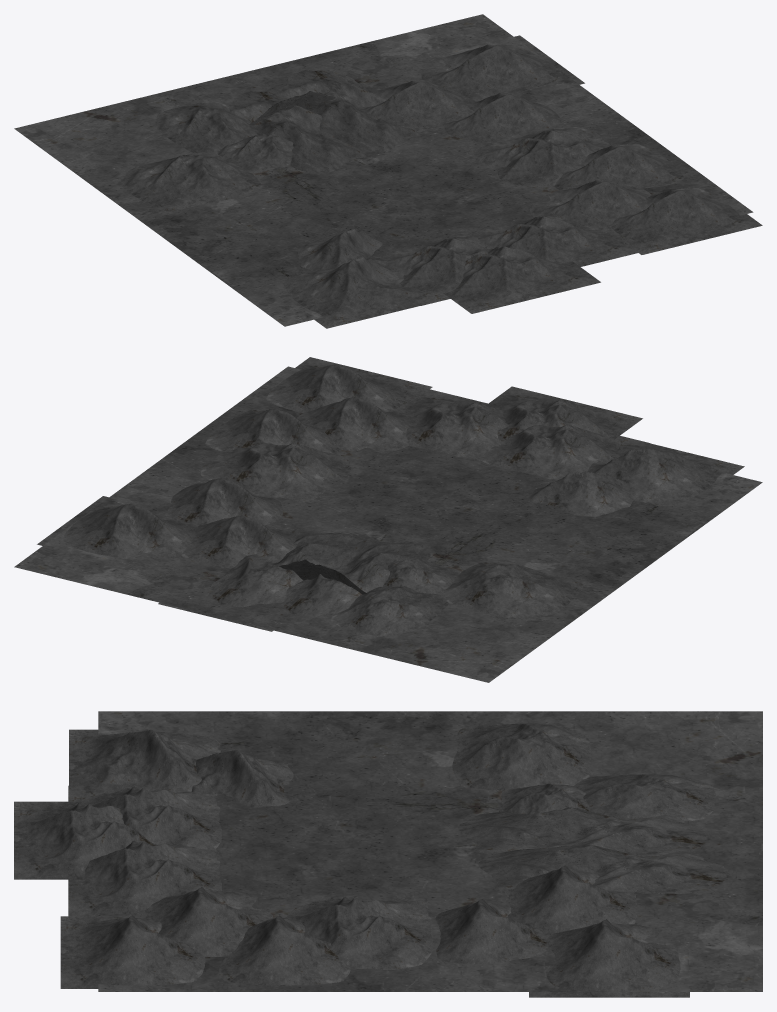
File: mine-ground.glb
The picture shows the model from 3 angles, top to bottom: view 1: azimuth 30°, elevation 25°; view 2: azimuth 150°, elevation 25°; view 3: azimuth 270°, elevation 25°; orthographic projection. The views are drawn at different scales.
Parts seen in each view (by area): view 1: 地形, 地面; view 2: 地形, 地面; view 3: 地形, 地面.
Boxes of the visible parts, x1,y1,x2,y2 form: 地形: (121, 35, 762, 328); 地面: (14, 14, 753, 326); 地形: (37, 357, 744, 636); 地面: (14, 366, 762, 682); 地形: (14, 723, 730, 997); 地面: (98, 711, 762, 991).
Size of the model in its own units: 256 by 16.64 by 284.
2 materials, 2 textured.
